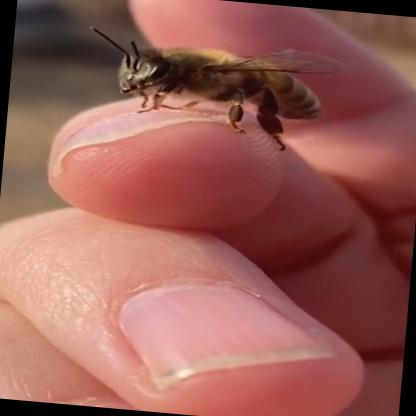bee: (47, 12, 389, 154)
